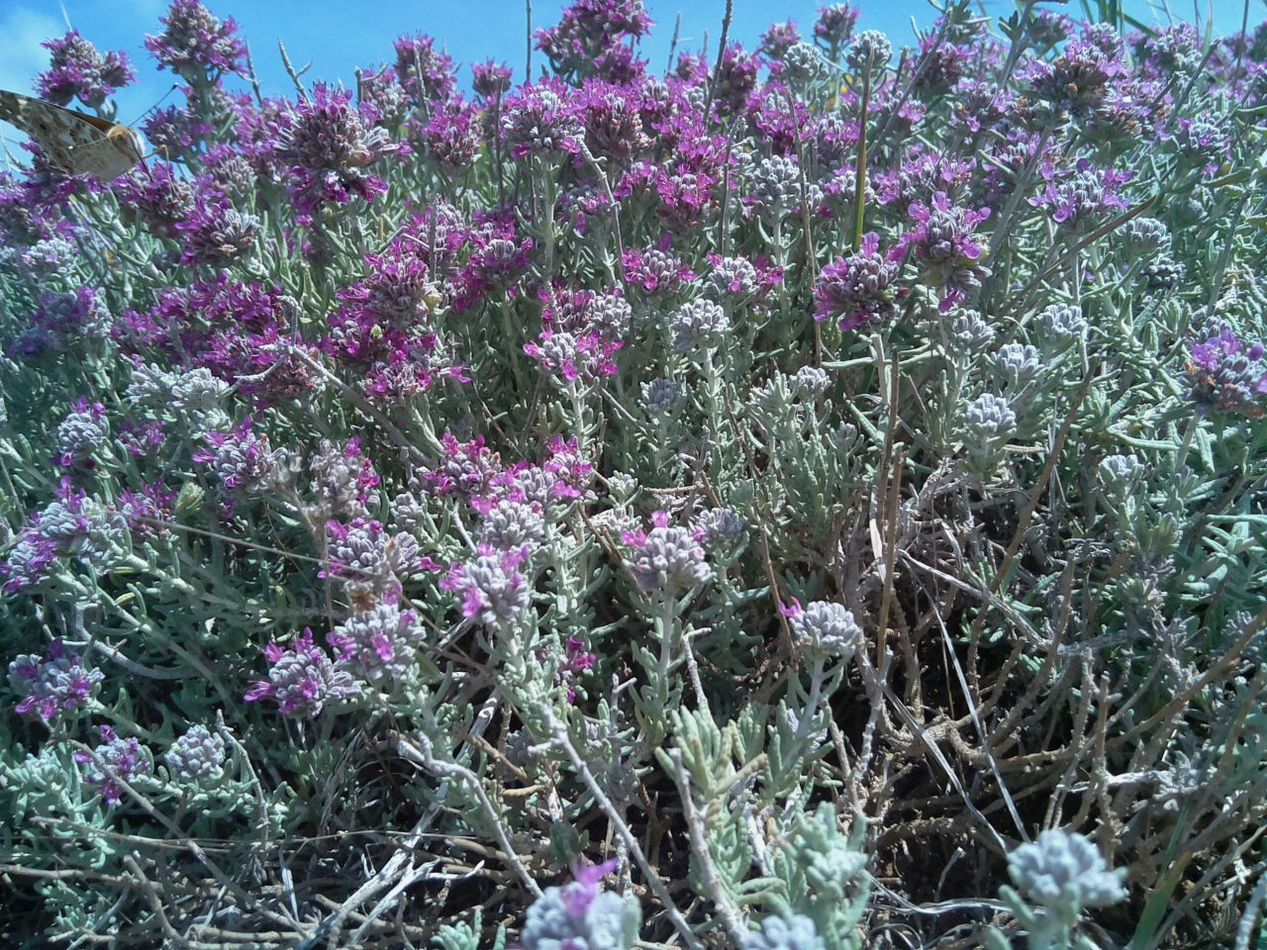Butterfly: (3, 57, 209, 210)
